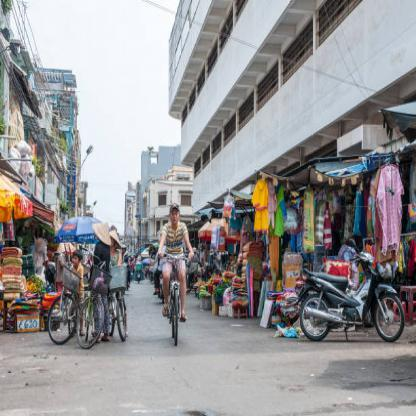Motorcycle: (288, 244, 409, 348)
